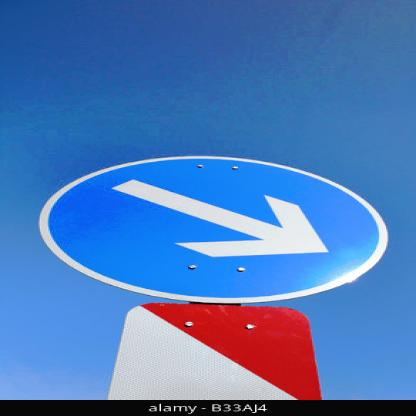Keep right: (29, 156, 401, 302)
